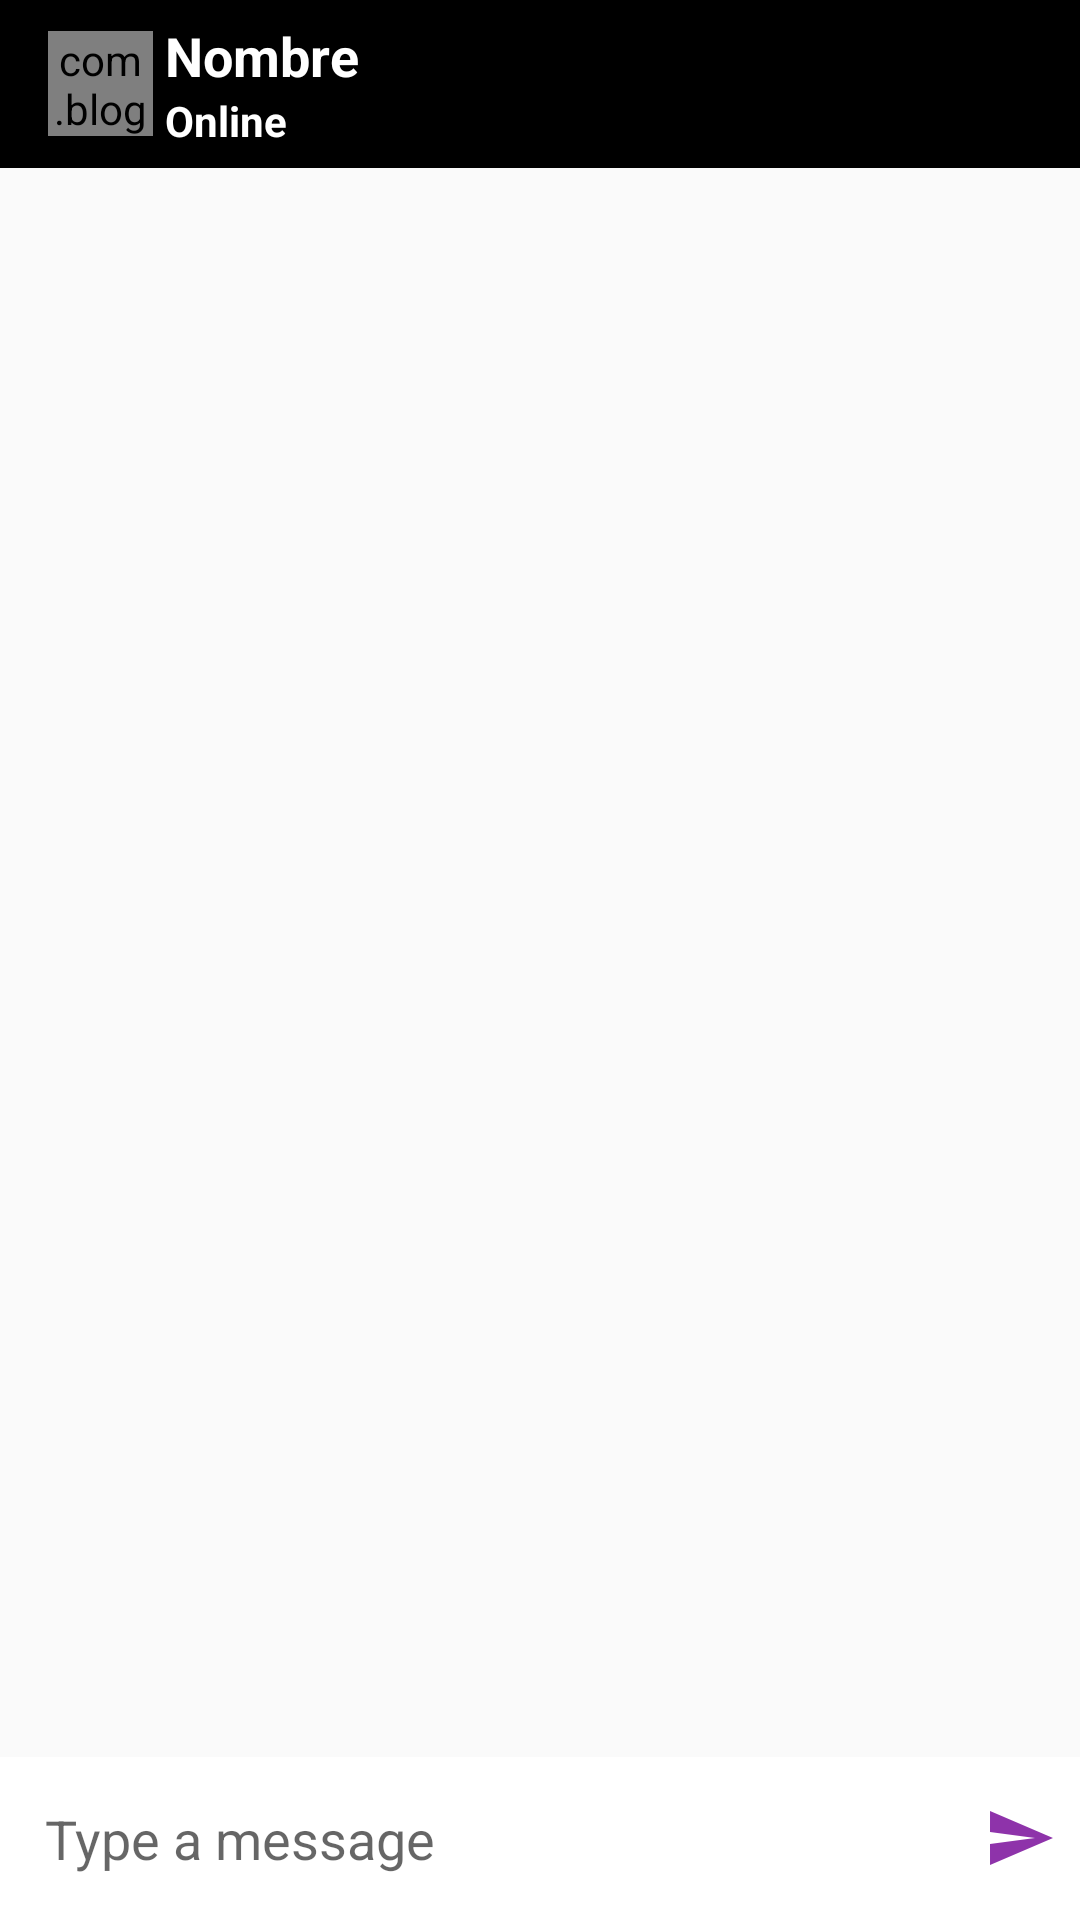

Screen size 1080w x 1920h. Icon name, then its box in pixels as (x1, y1, x2, y2):
send: (990, 1811, 1053, 1865)
